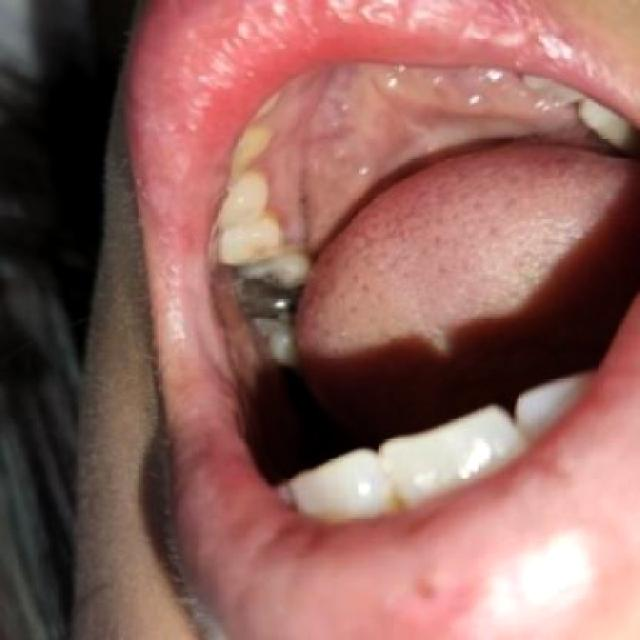Plaque: (229, 272, 301, 332)
